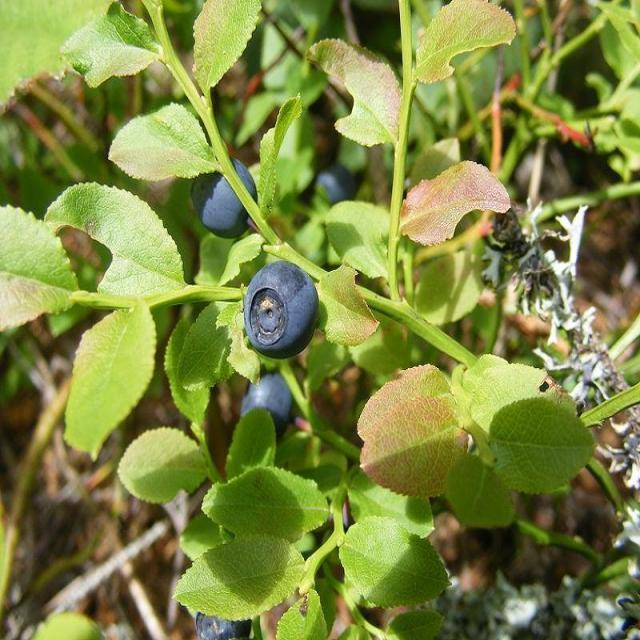BlueBerry - v1: (240, 256, 323, 368), (188, 148, 262, 245), (233, 364, 296, 449), (189, 602, 256, 640)
